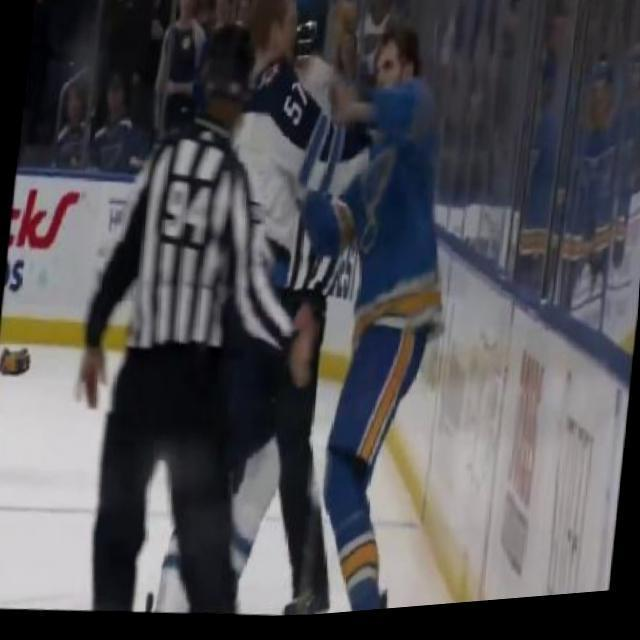fight: (179, 0, 459, 629)
